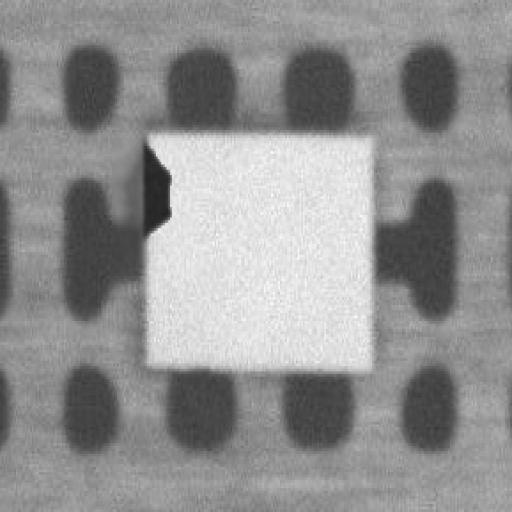DIE_BROKEN: (135, 130, 170, 239)
